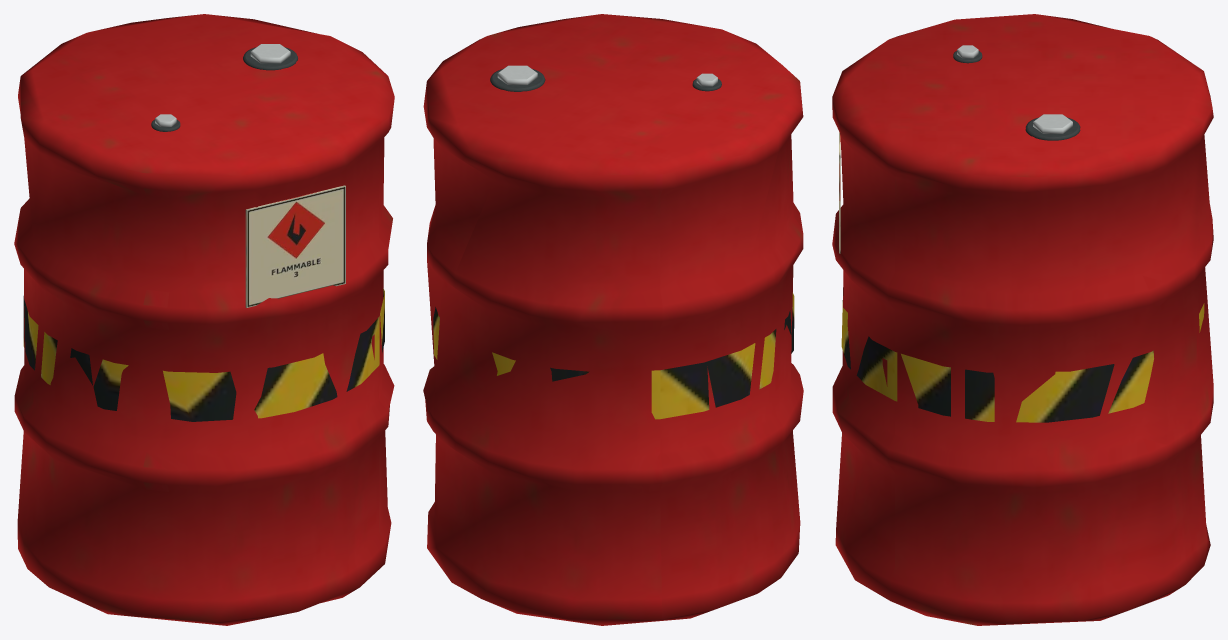
File: barrel.glb
The picture shows the model from 3 angles, left to right: view 1: azimuth 30°, elevation 25°; view 2: azimuth 150°, elevation 25°; view 3: azimuth 270°, elevation 25°; orthographic projection.
Visible parts, largest first — view 1: Formed steel drum, Hazard band, Flammable placard, Hex bung cap, Bung collar; view 2: Formed steel drum, Hazard band, Hex bung cap, Bung collar; view 3: Formed steel drum, Hazard band, Hex bung cap, Bung collar.
Part boxes in pixels (left/top/right/bottom): Formed steel drum: left=14, top=14, right=394, bottom=625; Hazard band: left=23, top=288, right=384, bottom=421; Flammable placard: left=245, top=185, right=345, bottom=307; Hex bung cap: left=250, top=44, right=290, bottom=63; Bung collar: left=243, top=47, right=297, bottom=70; Formed steel drum: left=423, top=14, right=803, bottom=625; Hazard band: left=433, top=292, right=794, bottom=419; Hex bung cap: left=497, top=65, right=537, bottom=84; Bung collar: left=490, top=69, right=545, bottom=91; Formed steel drum: left=832, top=14, right=1213, bottom=625; Hazard band: left=841, top=287, right=1204, bottom=422; Hex bung cap: left=1033, top=114, right=1072, bottom=133; Bung collar: left=1025, top=117, right=1080, bottom=140.
Bounding box in the file's own units: 0.9 × 1.23 × 0.899.
1 material, 1 textured.
